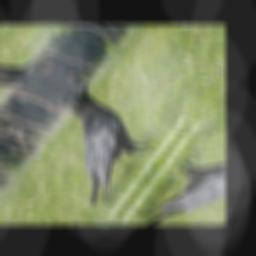Crow: (12, 79, 176, 211)
